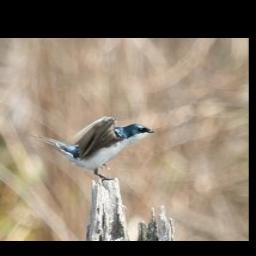Swallow: (30, 114, 156, 181)
